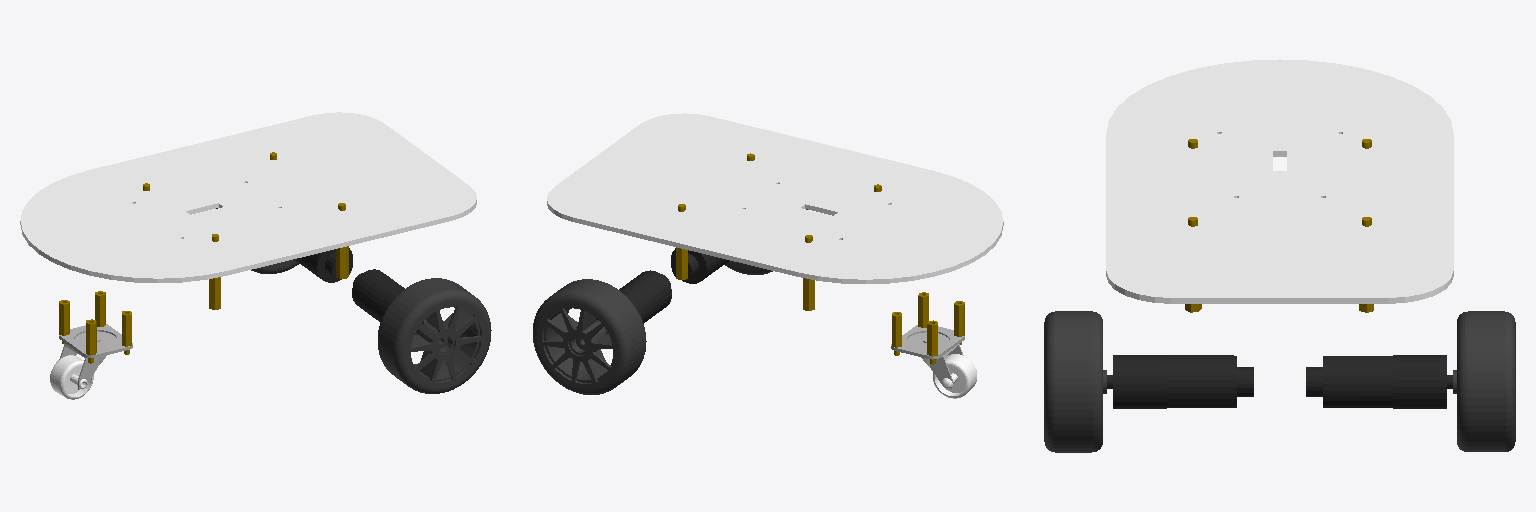
robot.urdf — qcl:
<?xml version="1.0" ?>
<robot
  name="qcl">
  <link
    name="base_link">
    <inertial>
      <origin
        xyz="0.04521 -0.00067608 0.013241"
        rpy="0 0 0" />
      <mass
        value="0.71026" />
      <inertia
        ixx="0.0008804"
        ixy="-4.168E-05"
        ixz="-4.9519E-05"
        iyy="0.0022413"
        iyz="2.1648E-06"
        izz="0.0029791" />
    </inertial>
    <visual>
      <origin
        xyz="0 0 0"
        rpy="0 0 0" />
      <geometry>
        <mesh
          filename="package://qcl_description/meshes/base_link.STL" />
      </geometry>
      <material
        name="">
        <color
          rgba="1 1 1 0.32" />
      </material>
    </visual>
    <collision>
      <origin
        xyz="0 0 0"
        rpy="0 0 0" />
      <geometry>
        <mesh
          filename="package://qcl_description/meshes/base_link.STL" />
      </geometry>
    </collision>
  </link>
  
 <link name="kinect_link">
        <visual>
            <origin xyz="0.0050061 -0.00014713 -0.0014635" rpy="0 0 1.5708"/>
            <geometry>
                <mesh filename="package://qcl_description/meshes/kinect.dae" />
            </geometry>
        </visual>
    </link>

    <joint name="laser_joint" type="fixed">
        <origin xyz="-0.022 0 0.078" rpy="0 0 0"/>
        <parent link="base_link"/>
        <child link="kinect_link"/>
    </joint>

  <link
    name="left_motor_link">
    <inertial>
      <origin
        xyz="-0.0044525 -4.3264E-07 1.3878E-17"
        rpy="0 0 0" />
      <mass
        value="0.20548" />
      <inertia
        ixx="1.507E-05"
        ixy="3.3294E-09"
        ixz="1.3383E-21"
        iyy="7.099E-05"
        iyz="1.3162E-25"
        izz="7.099E-05" />
    </inertial>
    <visual>
      <origin
        xyz="0 0 0"
        rpy="0 0 0" />
      <geometry>
        <mesh
          filename="package://qcl_description/meshes/left_motor_link.STL" />
      </geometry>
      <material
        name="">
        <color
          rgba="0.2 0.2 0.2 1" />
      </material>
    </visual>
    <collision>
      <origin
        xyz="0 0 0"
        rpy="0 0 0" />
      <geometry>
        <mesh
          filename="package://qcl_description/meshes/left_motor_link.STL" />
      </geometry>
    </collision>
  </link>
  <joint
    name="left_motor_link_joint"
    type="fixed">
    <origin
      xyz="0.08 -0.052 -0.02"
      rpy="-1.5708 -6.123E-17 -1.5708" />
    <parent
      link="base_link" />
    <child
      link="left_motor_link" />
    <axis
      xyz="0 0 0" />
  </joint>
  <link
    name="right_motor_link">
    <inertial>
      <origin
        xyz="-0.0044525 4.3259E-07 -6.8314E-09"
        rpy="0 0 0" />
      <mass
        value="0.20548" />
      <inertia
        ixx="1.507E-05"
        ixy="-3.329E-09"
        ixz="5.0684E-11"
        iyy="7.099E-05"
        iyz="-2.0772E-12"
        izz="7.099E-05" />
    </inertial>
    <visual>
      <origin
        xyz="0 0 0"
        rpy="0 0 0" />
      <geometry>
        <mesh
          filename="package://qcl_description/meshes/right_motor_link.STL" />
      </geometry>
      <material
        name="">
        <color
          rgba="0.2 0.2 0.2 1" />
      </material>
    </visual>
    <collision>
      <origin
        xyz="0 0 0"
        rpy="0 0 0" />
      <geometry>
        <mesh
          filename="package://qcl_description/meshes/right_motor_link.STL" />
      </geometry>
    </collision>
  </link>
  <joint
    name="right_motor_link_joint"
    type="fixed">
    <origin
      xyz="0.08 0.052 -0.02"
      rpy="1.5864 -3.261E-10 1.5708" />
    <parent
      link="base_link" />
    <child
      link="right_motor_link" />
    <axis
      xyz="0 0 0" />
  </joint>
  <link
    name="left_wheel_link">
    <inertial>
      <origin
        xyz="-1.4851E-09 0.015015 2.4566E-10"
        rpy="0 0 0" />
      <mass
        value="0.075908" />
      <inertia
        ixx="2.6258E-05"
        ixy="-9.3219E-13"
        ixz="-2.8752E-13"
        iyy="4.396E-05"
        iyz="1.6286E-13"
        izz="2.6267E-05" />
    </inertial>
    <visual>
      <origin
        xyz="0 0 0"
        rpy="0 0 0" />
      <geometry>
        <mesh
          filename="package://qcl_description/meshes/left_wheel_link.STL" />
      </geometry>
      <material
        name="">
        <color
          rgba="0.29412 0.29412 0.29412 1" />
      </material>
    </visual>
    <collision>
      <origin
        xyz="0 0 0"
        rpy="0 0 0" />
      <geometry>
        <mesh
          filename="package://qcl_description/meshes/left_wheel_link.STL" />
      </geometry>
    </collision>
  </link>
  <joint
    name="left_wheel_link_joint"
    type="continuous">
    <origin
      xyz="0.08 -0.0795 -0.02"
      rpy="7.1976E-17 0.55346 -3.1416" />
    <parent
      link="base_link" />
    <child
      link="left_wheel_link" />
    <axis
      xyz="0 1 0" />
  </joint>
  <link
    name="right_wheel_link">
    <inertial>
      <origin
        xyz="5.2978E-10 0.015015 -1.4089E-09"
        rpy="0 0 0" />
      <mass
        value="0.075908" />
      <inertia
        ixx="2.6264E-05"
        ixy="3.2505E-13"
        ixz="3.9746E-09"
        iyy="4.396E-05"
        iyz="-8.8873E-13"
        izz="2.626E-05" />
    </inertial>
    <visual>
      <origin
        xyz="0 0 0"
        rpy="0 0 0" />
      <geometry>
        <mesh
          filename="package://qcl_description/meshes/right_wheel_link.STL" />
      </geometry>
      <material
        name="">
        <color
          rgba="0.29412 0.29412 0.29412 1" />
      </material>
    </visual>
    <collision>
      <origin
        xyz="0 0 0"
        rpy="0 0 0" />
      <geometry>
        <mesh
          filename="package://qcl_description/meshes/right_wheel_link.STL" />
      </geometry>
    </collision>
  </link>
  <joint
    name="right_wheel_link_joint"
    type="continuous">
    <origin
      xyz="0.08 0.0795 -0.02"
      rpy="-6.228E-17 0.18385 -1.1386E-17" />
    <parent
      link="base_link" />
    <child
      link="right_wheel_link" />
    <axis
      xyz="0 -1 0" />
  </joint>
  <link
    name="upper_pillar_link">
    <inertial>
      <origin
        xyz="-0.0036279 0.021701 -0.05825"
        rpy="0 0 0" />
      <mass
        value="0.043866" />
      <inertia
        ixx="8.162E-05"
        ixy="-2.2701E-21"
        ixz="-4.5145E-06"
        iyy="0.00014979"
        iyz="6.5106E-21"
        izz="8.2197E-05" />
    </inertial>
    <visual>
      <origin
        xyz="0 0 0"
        rpy="0 0 0" />
      <geometry>
        <mesh
          filename="package://qcl_description/meshes/upper_pillar_link.STL" />
      </geometry>
      <material
        name="">
        <color
          rgba="0.64706 0.51373 0 1" />
      </material>
    </visual>
    <collision>
      <origin
        xyz="0 0 0"
        rpy="0 0 0" />
      <geometry>
        <mesh
          filename="package://qcl_description/meshes/upper_pillar_link.STL" />
      </geometry>
    </collision>
  </link>
  <joint
    name="upper_pillar_link_joint"
    type="fixed">
    <origin
      xyz="0.05 -0.04 0.003"
      rpy="1.5708 4.1893E-17 0.75349" />
    <parent
      link="base_link" />
    <child
      link="upper_pillar_link" />
    <axis
      xyz="0 0 0" />
  </joint>
  <link
    name="second_base_link">
    <inertial>
      <origin
        xyz="0.0068684 0.0015 1.2737E-17"
        rpy="0 0 0" />
      <mass
        value="0.12289" />
      <inertia
        ixx="0.00024204"
        ixy="2.3431E-22"
        ixz="-2.2464E-20"
        iyy="0.00085621"
        iyz="-9.8075E-24"
        izz="0.00061435" />
    </inertial>
    <visual>
      <origin
        xyz="0 0 0"
        rpy="0 0 0" />
      <geometry>
        <mesh
          filename="package://qcl_description/meshes/second_base_link.STL" />
      </geometry>
      <material
        name="">
        <color
          rgba="1 1 1 0.32" />
      </material>
    </visual>
    <collision>
      <origin
        xyz="0 0 0"
        rpy="0 0 0" />
      <geometry>
        <mesh
          filename="package://qcl_description/meshes/second_base_link.STL" />
      </geometry>
    </collision>
  </link>
  <joint
    name="second_base_link_joint"
    type="fixed">
    <origin
      xyz="-0.0090977 0.04 -0.063382"
      rpy="0 -0.75349 0" />
    <parent
      link="upper_pillar_link" />
    <child
      link="second_base_link" />
    <axis
      xyz="0 0 0" />
  </joint>
  <link
    name="down_pillar_link">
    <inertial>
      <origin
        xyz="-0.019597 -0.011183 -0.00043751"
        rpy="0 0 0" />
      <mass
        value="0.018034" />
      <inertia
        ixx="4.0649E-06"
        ixy="1.5272E-22"
        ixz="8.2969E-07"
        iyy="7.0324E-06"
        iyz="-5.4456E-22"
        izz="4.5743E-06" />
    </inertial>
    <visual>
      <origin
        xyz="0 0 0"
        rpy="0 0 0" />
      <geometry>
        <mesh
          filename="package://qcl_description/meshes/down_pillar_link.STL" />
      </geometry>
      <material
        name="">
        <color
          rgba="0.64706 0.51373 0 1" />
      </material>
    </visual>
    <collision>
      <origin
        xyz="0 0 0"
        rpy="0 0 0" />
      <geometry>
        <mesh
          filename="package://qcl_description/meshes/down_pillar_link.STL" />
      </geometry>
    </collision>
  </link>
  <joint
    name="down_pillar_link_joint"
    type="fixed">
    <origin
      xyz="-0.08 0.0155 0"
      rpy="1.5708 4.9241E-17 0.93431" />
    <parent
      link="base_link" />
    <child
      link="down_pillar_link" />
    <axis
      xyz="0 0 0" />
  </joint>
  <link
    name="front_wheel_base_link">
    <inertial>
      <origin
        xyz="-4.7525E-18 0.00087738 -1.3878E-17"
        rpy="0 0 0" />
      <mass
        value="0.0018063" />
      <inertia
        ixx="1.6484E-07"
        ixy="-1.1488E-23"
        ixz="-9.6935E-24"
        iyy="3.9976E-07"
        iyz="2.0239E-24"
        izz="2.3607E-07" />
    </inertial>
    <visual>
      <origin
        xyz="0 0 0"
        rpy="0 0 0" />
      <geometry>
        <mesh
          filename="package://qcl_description/meshes/front_wheel_base_link.STL" />
      </geometry>
      <material
        name="">
        <color
          rgba="0.75294 0.75294 0.75294 1" />
      </material>
    </visual>
    <collision>
      <origin
        xyz="0 0 0"
        rpy="0 0 0" />
      <geometry>
        <mesh
          filename="package://qcl_description/meshes/front_wheel_base_link.STL" />
      </geometry>
    </collision>
  </link>
  <joint
    name="front_wheel_base_link_joint"
    type="fixed">
    <origin
      xyz="-0.019597 -0.022 -0.00043751"
      rpy="0 0.63649 0" />
    <parent
      link="down_pillar_link" />
    <child
      link="front_wheel_base_link" />
    <axis
      xyz="0 0 0" />
  </joint>
  <link
    name="front_wheel_link">
    <inertial>
      <origin
        xyz="0.004231 -0.0034555 2.7811E-08"
        rpy="0 0 0" />
      <mass
        value="0.0014826" />
      <inertia
        ixx="1.093E-07"
        ixy="2.5801E-08"
        ixz="-1.269E-13"
        iyy="1.713E-07"
        iyz="-1.3046E-13"
        izz="1.1404E-07" />
    </inertial>
    <visual>
      <origin
        xyz="0 0 0"
        rpy="0 0 0" />
      <geometry>
        <mesh
          filename="package://qcl_description/meshes/front_wheel_link.STL" />
      </geometry>
      <material
        name="">
        <color
          rgba="0.75294 0.75294 0.75294 1" />
      </material>
    </visual>
    <collision>
      <origin
        xyz="0 0 0"
        rpy="0 0 0" />
      <geometry>
        <mesh
          filename="package://qcl_description/meshes/front_wheel_link.STL" />
      </geometry>
    </collision>
  </link>
  <joint
    name="front_wheel_link_joint"
    type="continuous">
    <origin
      xyz="0 0 0"
      rpy="3.1416 1.4691 3.1416" />
    <parent
      link="front_wheel_base_link" />
    <child
      link="front_wheel_link" />
    <axis
      xyz="0 1 0" />
  </joint>
  <link
    name="front_wheel">
    <inertial>
      <origin
        xyz="-0.00029981 0 0"
        rpy="0 0 0" />
      <mass
        value="0.0030592" />
      <inertia
        ixx="2.5606E-07"
        ixy="2.2334E-22"
        ixz="1.8301E-23"
        iyy="1.7174E-07"
        iyz="-4.1747E-24"
        izz="1.7174E-07" />
    </inertial>
    <visual>
      <origin
        xyz="0 0 0"
        rpy="0 0 0" />
      <geometry>
        <mesh
          filename="package://qcl_description/meshes/front_wheel.STL" />
      </geometry>
      <material
        name="">
        <color
          rgba="1 1 1 1" />
      </material>
    </visual>
    <collision>
      <origin
        xyz="0 0 0"
        rpy="0 0 0" />
      <geometry>
        <mesh
          filename="package://qcl_description/meshes/front_wheel.STL" />
      </geometry>
    </collision>
  </link>
  <joint
    name="front_wheel_joint"
    type="continuous">
    <origin
      xyz="0.017 -0.01801 0"
      rpy="-1.6378 1.5708 0.0099499" />
    <parent
      link="front_wheel_link" />
    <child
      link="front_wheel" />
    <axis
      xyz="1 0 0" />
  </joint>
</robot>

--- Facts derived from the render (not from the file) ---
The picture shows the robot from 3 angles, left to right: view 1: azimuth 30°, elevation 25°; view 2: azimuth 150°, elevation 25°; view 3: azimuth 270°, elevation 25°; orthographic projection.
Robot: qcl — 12 links, 11 joints (4 continuous, 7 fixed); root link base_link; default pose: all joints at 0.
Links seen in each view (by area): view 1: second_base_link, left_wheel_link, left_motor_link, down_pillar_link, front_wheel, front_wheel_base_link, upper_pillar_link, right_motor_link; view 2: second_base_link, right_wheel_link, right_motor_link, down_pillar_link, front_wheel, front_wheel_base_link, upper_pillar_link, left_motor_link; view 3: second_base_link, left_wheel_link, right_wheel_link, left_motor_link, right_motor_link, upper_pillar_link.
Link boxes in pixels (bbox=[...]): second_base_link: bbox=[20, 112, 476, 282]; left_wheel_link: bbox=[378, 278, 491, 393]; left_motor_link: bbox=[352, 269, 415, 334]; down_pillar_link: bbox=[59, 291, 131, 363]; front_wheel: bbox=[50, 355, 93, 399]; front_wheel_base_link: bbox=[59, 324, 132, 357]; upper_pillar_link: bbox=[143, 152, 348, 309]; right_motor_link: bbox=[293, 248, 352, 282]; second_base_link: bbox=[547, 113, 1003, 283]; right_wheel_link: bbox=[533, 279, 646, 394]; right_motor_link: bbox=[596, 270, 671, 323]; down_pillar_link: bbox=[892, 292, 964, 364]; front_wheel: bbox=[933, 354, 976, 398]; front_wheel_base_link: bbox=[891, 325, 964, 359]; upper_pillar_link: bbox=[676, 153, 881, 310]; left_motor_link: bbox=[671, 248, 729, 283]; second_base_link: bbox=[1106, 59, 1453, 303]; left_wheel_link: bbox=[1044, 311, 1106, 452]; right_wheel_link: bbox=[1453, 311, 1515, 451]; left_motor_link: bbox=[1107, 355, 1253, 408]; right_motor_link: bbox=[1306, 355, 1452, 408]; upper_pillar_link: bbox=[1185, 139, 1373, 312].
Bounding box of the posed robot: 0.26 × 0.217 × 0.1015 m (x, y, z).
10 mesh visuals loaded from 12 distinct referenced files (10 binary STL); not drawn: 2 (reference not matched to a file when rendering).